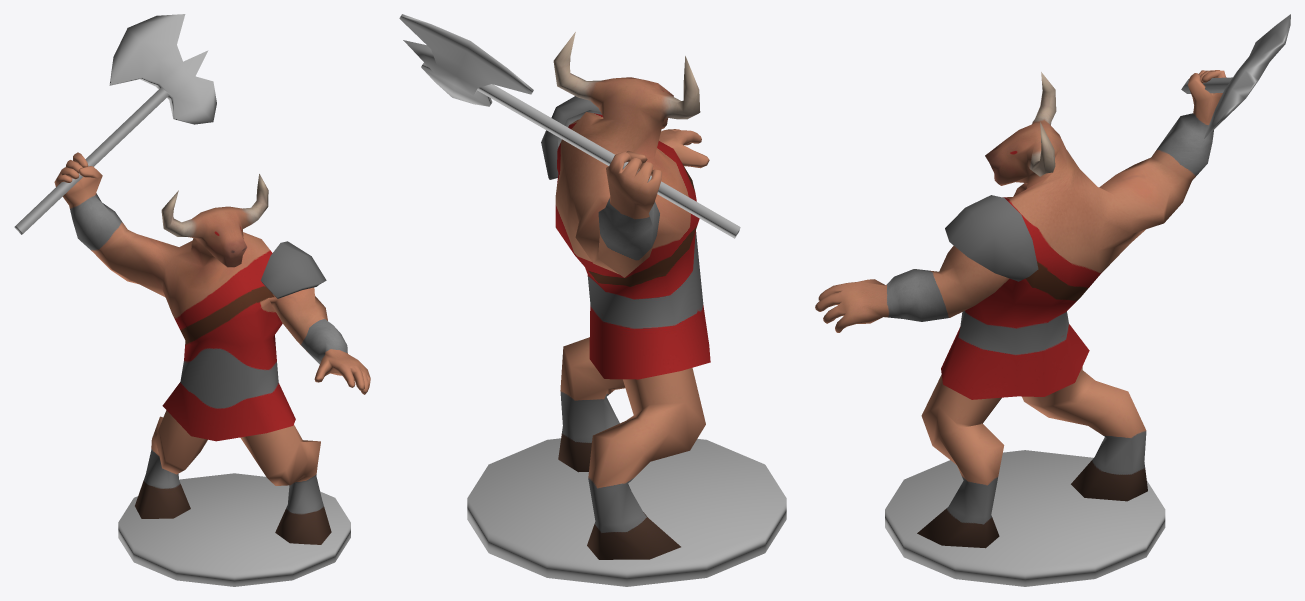
Rendered from minotaur.fbx.
The picture shows the model from 3 angles, left to right: view 1: azimuth 30°, elevation 25°; view 2: azimuth 150°, elevation 25°; view 3: azimuth 270°, elevation 25°; orthographic projection. The views are drawn at different scales.
Parts seen in each view (by area): view 1: polySurface3, polySurface2, polySurface1; view 2: polySurface3, polySurface2, polySurface1; view 3: polySurface3, polySurface2, polySurface1.
Boxes of the visible parts, box(x1,y1,x2,y2) form: polySurface3: box(54, 152, 370, 544); polySurface2: box(118, 473, 350, 586); polySurface1: box(14, 14, 216, 234); polySurface3: box(541, 32, 710, 559); polySurface2: box(467, 438, 786, 586); polySurface1: box(399, 14, 740, 238); polySurface3: box(815, 70, 1226, 548); polySurface2: box(885, 450, 1165, 586); polySurface1: box(1181, 14, 1290, 138).
Bounding box in the file's own units: 28.62 × 47.18 × 38.98.
